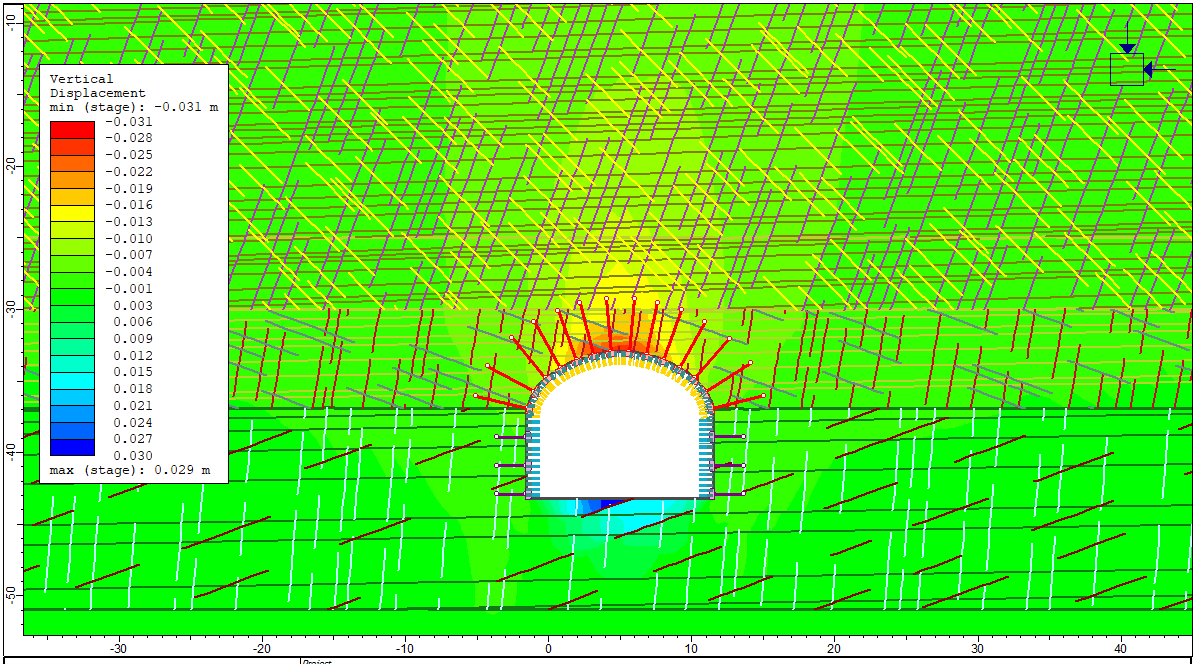crown: (590, 327, 657, 353)
label: (41, 64, 226, 483)
tunnel-opening: (524, 350, 714, 498)
